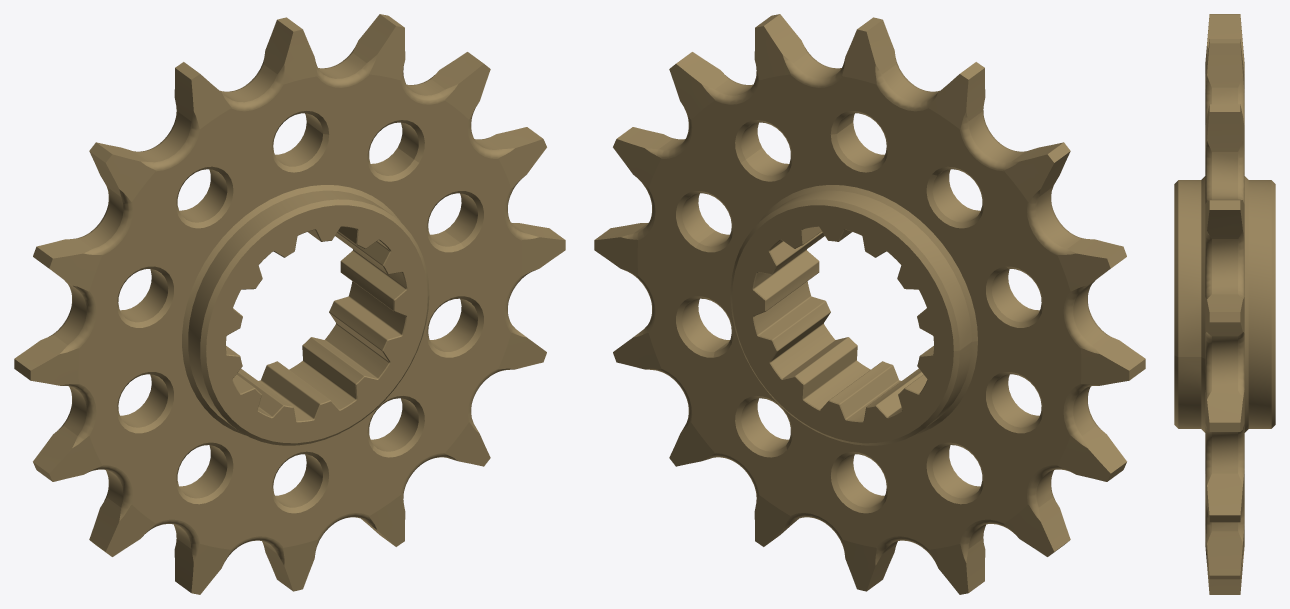
File: Teeth sprocket.glb
The picture shows the model from 3 angles, left to right: view 1: azimuth 30°, elevation 25°; view 2: azimuth 150°, elevation 25°; view 3: azimuth 270°, elevation 25°; orthographic projection. The views are drawn at different scales.
Parts seen in each view (by area): view 1: empty_2; view 2: empty_2; view 3: empty_2.
Boxes of the visible parts, x1,y1,x2,y2 form: empty_2: (14, 14, 565, 594); empty_2: (594, 14, 1145, 594); empty_2: (1174, 14, 1275, 594).
Bounding box in the file's own units: 88.65 × 88.65 × 15.49.
